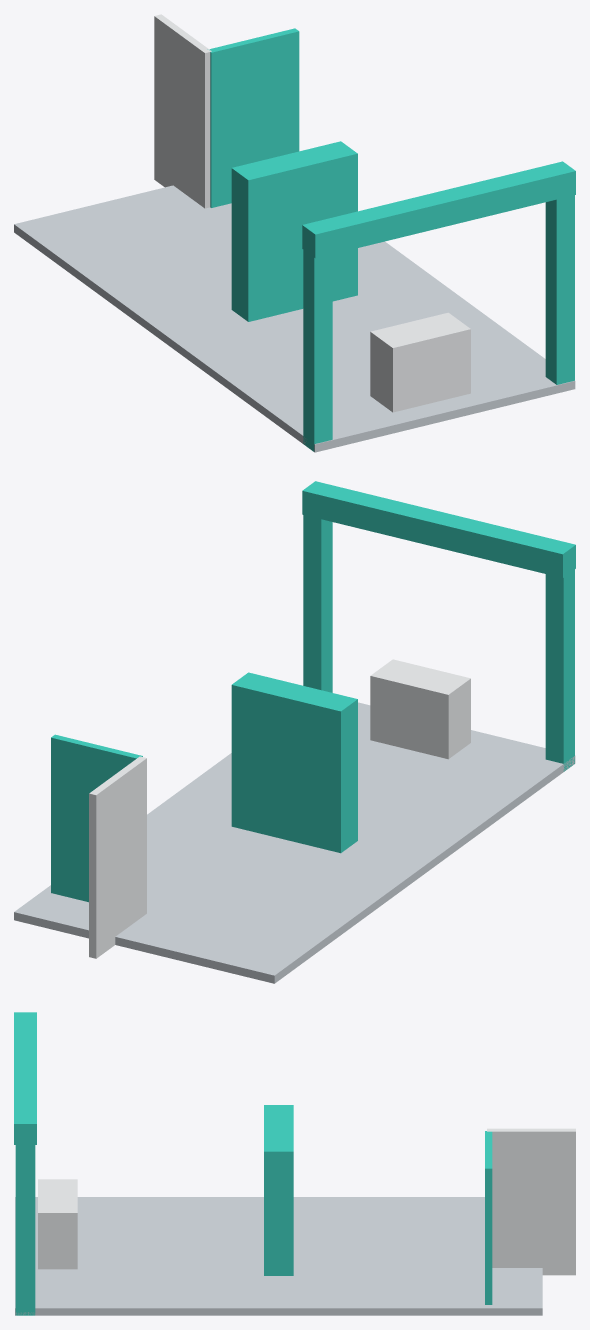
3 renders of one model, top to bottom at view 1: azimuth 30°, elevation 25°; view 2: azimuth 150°, elevation 25°; view 3: azimuth 270°, elevation 25°, orthographic. The views are drawn at different scales.
Visible parts, largest first — view 1: Exhibition Booth Concept; view 2: Exhibition Booth Concept; view 3: Exhibition Booth Concept.
Part boxes in pixels (<box>): Exhibition Booth Concept: <box>14,14,575,452</box>; Exhibition Booth Concept: <box>14,481,575,983</box>; Exhibition Booth Concept: <box>14,1012,575,1315</box>.
Size of the model in its own units: 4 by 3.2 by 8.52.
